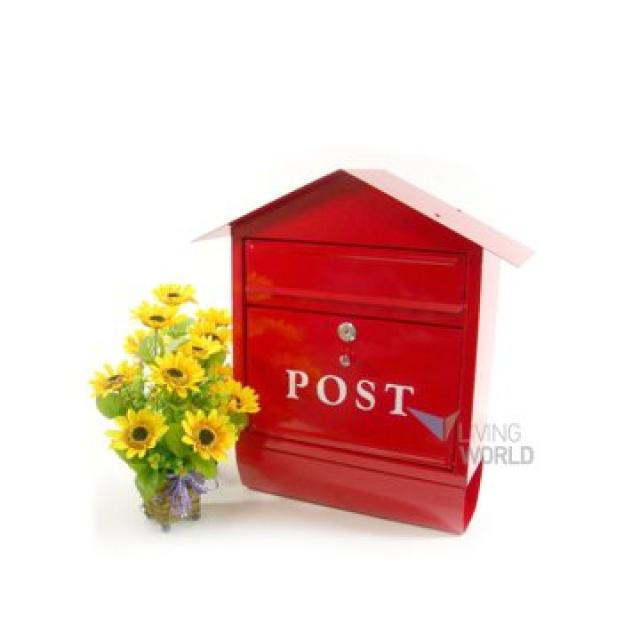Post Box: (193, 165, 536, 537)
